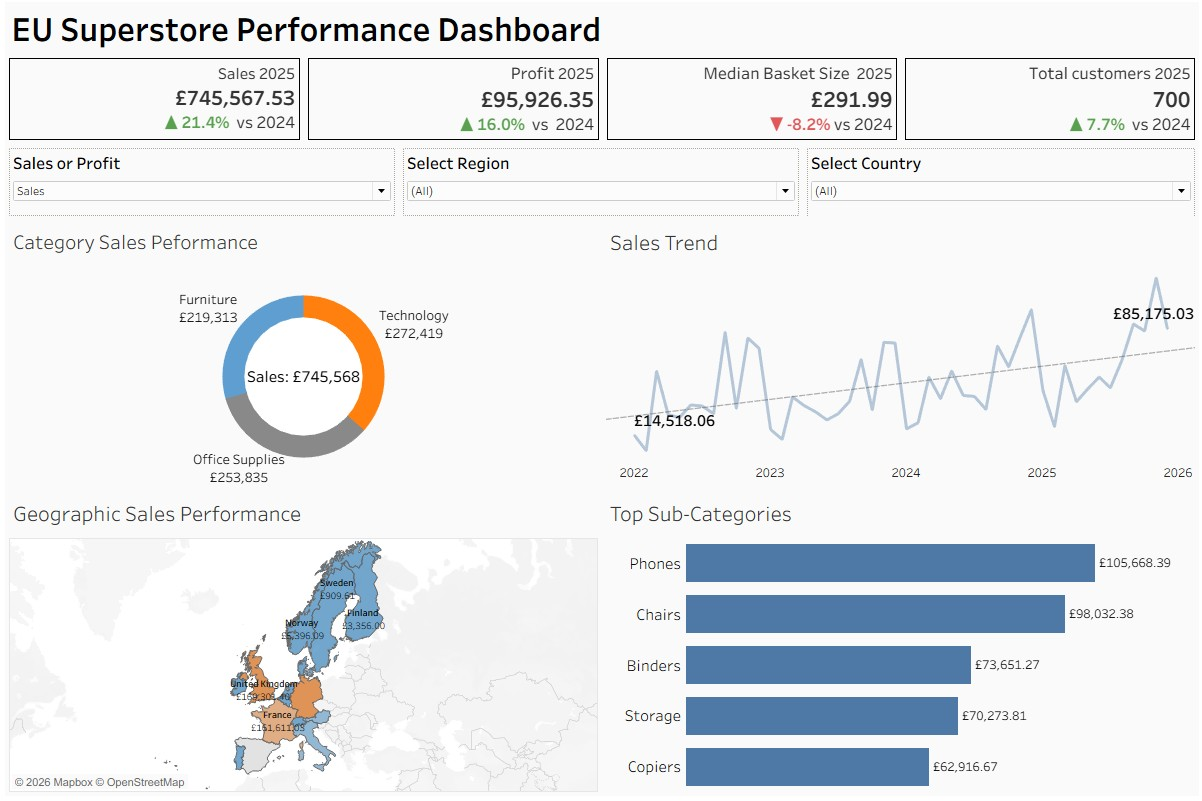

This screenshot's page, from the dashboard's own definition file:
{"tool":"tableau","page":{"name":"Dashboard 1","canvas":[1200,800],"ordinal":0},"visuals":[{"type":"text","box":[3,3,1194,52.3]},{"type":"worksheet","title":"YoY Sales KPI","mark":"Automatic","box":[3,55,299,90]},{"type":"worksheet","title":"YoY Profit KPI","mark":"Automatic","box":[302,55,299,90]},{"type":"worksheet","title":"YoY Median basket size","mark":"Automatic","box":[601,55,298,90]},{"type":"worksheet","title":"YoY Total customers","mark":"Automatic","box":[899,55,298,90]},{"type":"filter","title":"Map","param":"[Sample - EU Superstore].[none:Country/Region:nk]","box":[801.4,144.6,395.6,76.6]},{"type":"parameter","param":"[Parameters].[Parameter 3]","box":[3,145,394,76]},{"type":"filter","title":"Map","param":"[Sample - EU Superstore].[none:Region:nk]","box":[397,145,404,76]},{"type":"worksheet","title":"Product performance","mark":"Pie","rows":["Calculation_2632916950528446476","Calculation_2632916950528454670"],"box":[3,221.2,597,270.8]},{"type":"worksheet","title":"Sales/Profit timeseries","mark":"Automatic","rows":["Metric Choice (copy)_2632916950526996490"],"cols":["Order Date"],"box":[600,221.2,597,270.8]},{"type":"worksheet","title":"Map","mark":"Automatic","box":[3,492,597,305]},{"type":"worksheet","title":"Top 5 sub-categories","mark":"Automatic","rows":["Sub-Category"],"cols":["Calculation_2632916950523400201"],"box":[600,492,597,305]}]}

Visuals, with their boxes in screenshot pixels (x1, y1, x2, y2), scaled from the page's 1200x800 canvas onto the 1202x801 screenshot:
text: Rect(3, 3, 1199, 55)
"YoY Sales KPI" worksheet: Rect(3, 55, 303, 145)
"YoY Profit KPI" worksheet: Rect(303, 55, 602, 145)
"YoY Median basket size" worksheet: Rect(602, 55, 900, 145)
"YoY Total customers" worksheet: Rect(900, 55, 1199, 145)
"Map" filter: Rect(803, 145, 1199, 221)
parameter: Rect(3, 145, 398, 221)
"Map" filter: Rect(398, 145, 802, 221)
"Product performance" worksheet (Pie marks): Rect(3, 221, 601, 493)
"Sales/Profit timeseries" worksheet: Rect(601, 221, 1199, 493)
"Map" worksheet: Rect(3, 493, 601, 798)
"Top 5 sub-categories" worksheet: Rect(601, 493, 1199, 798)
